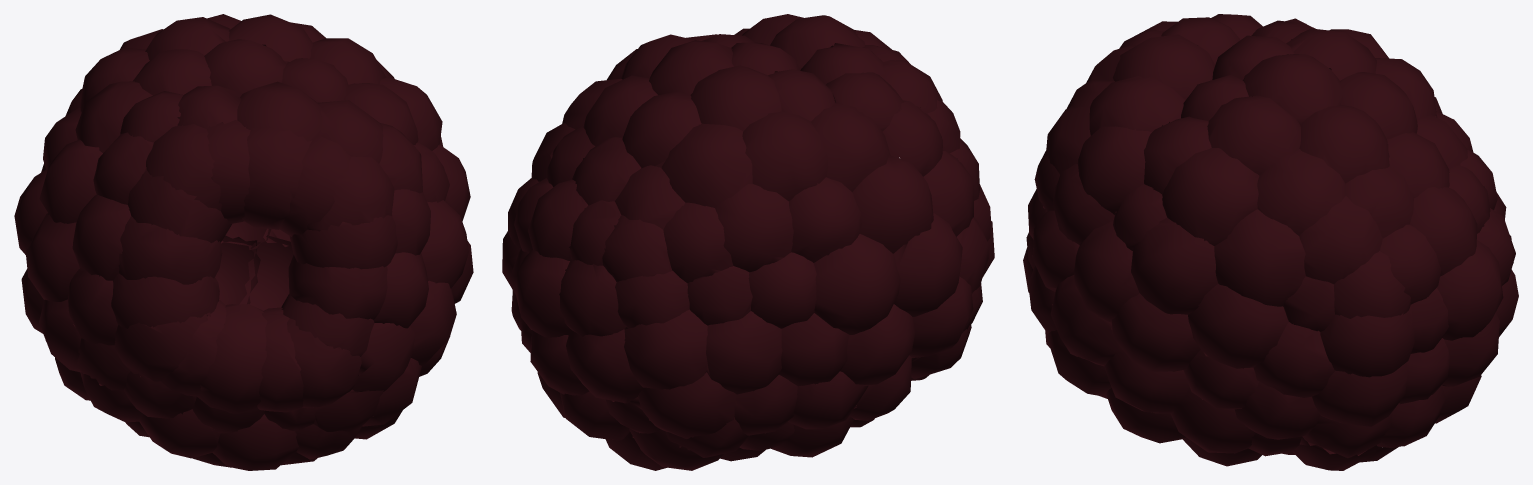
File: candle_blackberry_v2.glb
3 renders of one model, left to right at view 1: azimuth 30°, elevation 25°; view 2: azimuth 150°, elevation 25°; view 3: azimuth 270°, elevation 25°, orthographic.
Parts seen in each view (by area): view 1: Icosphere.087; view 2: Icosphere.087; view 3: Icosphere.087.
Boxes of the visible parts, left/top/right/bottom form: Icosphere.087: left=14, top=14, right=473, bottom=470; Icosphere.087: left=502, top=14, right=994, bottom=470; Icosphere.087: left=1023, top=14, right=1518, bottom=470.
Bounding box in the file's own units: 0.1851 × 0.1753 × 0.1964.
